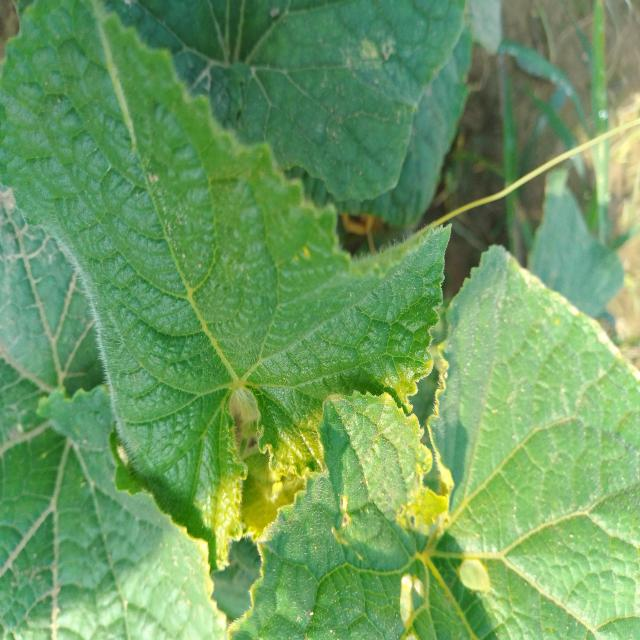cucumber_healthy: (2, 4, 454, 564), (457, 238, 640, 640), (128, 2, 464, 204), (2, 374, 232, 640)
